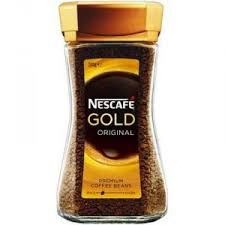nescafe-classic/gold-med: (48, 4, 168, 221)
